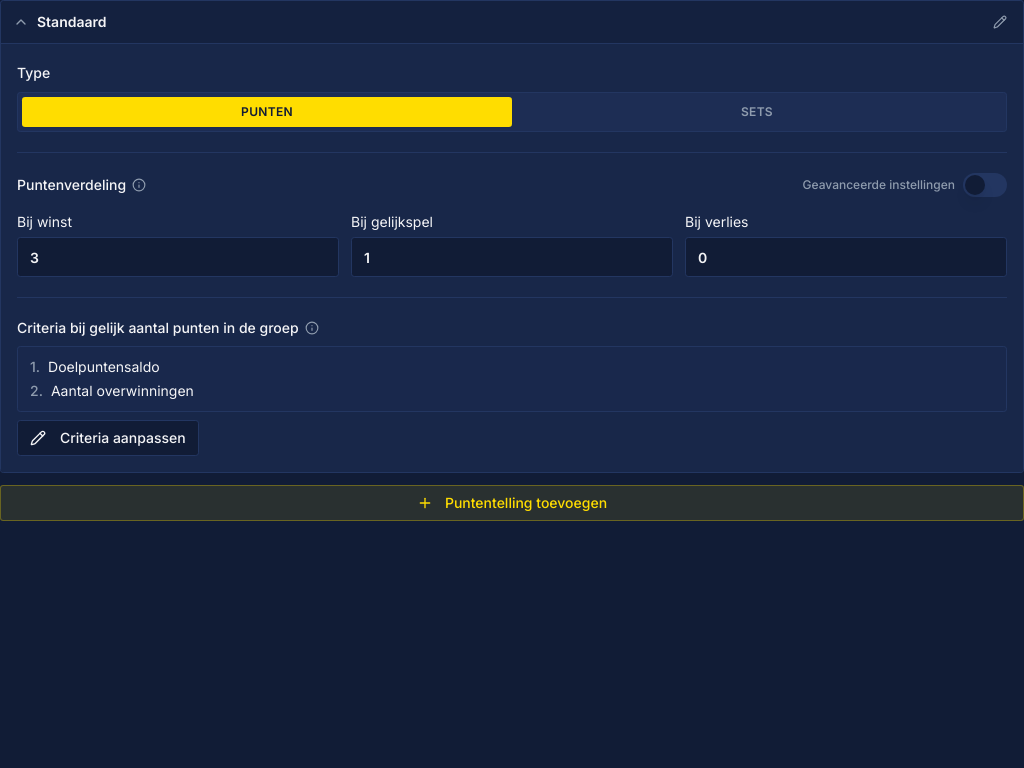
Scenario: Puntenverdeling › staat de schakelaar 'geen gelijkspel' direct bij de gelijkspelvelden en schakelt die uit
This screenshot has width=1024, height=768.
Click the switch named "Geavanceerde instellingen".
click(985, 185)  # box [963,173,1007,197]
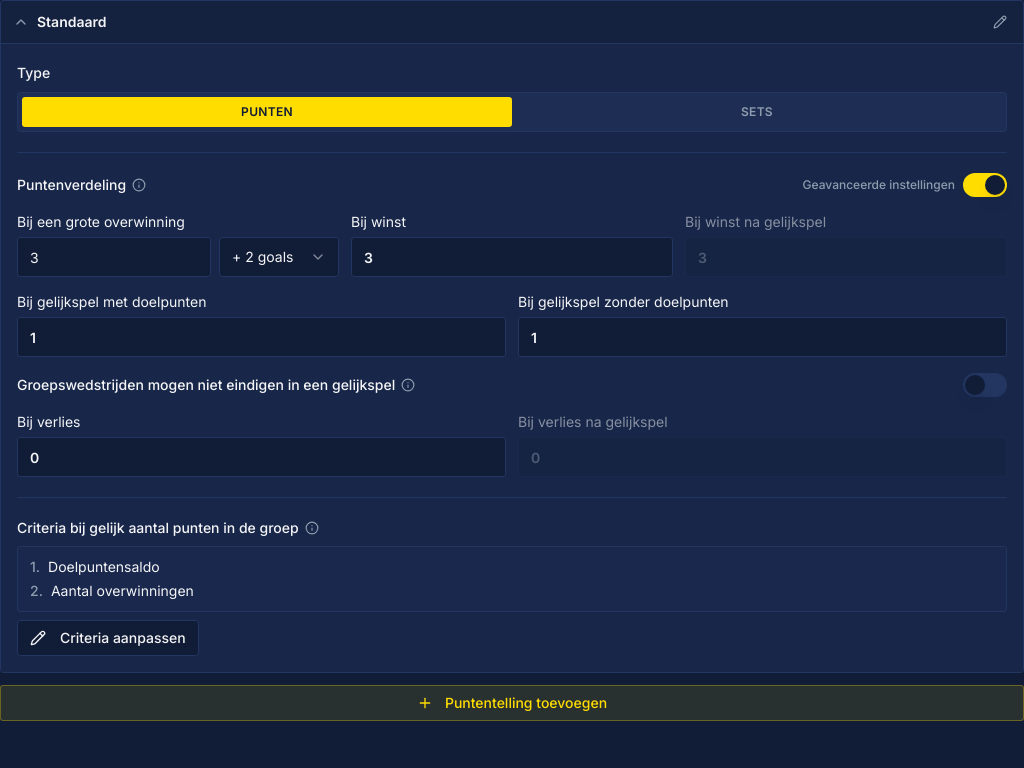
Click the 2nd switch.
click(985, 385)  # box [963,373,1007,397]
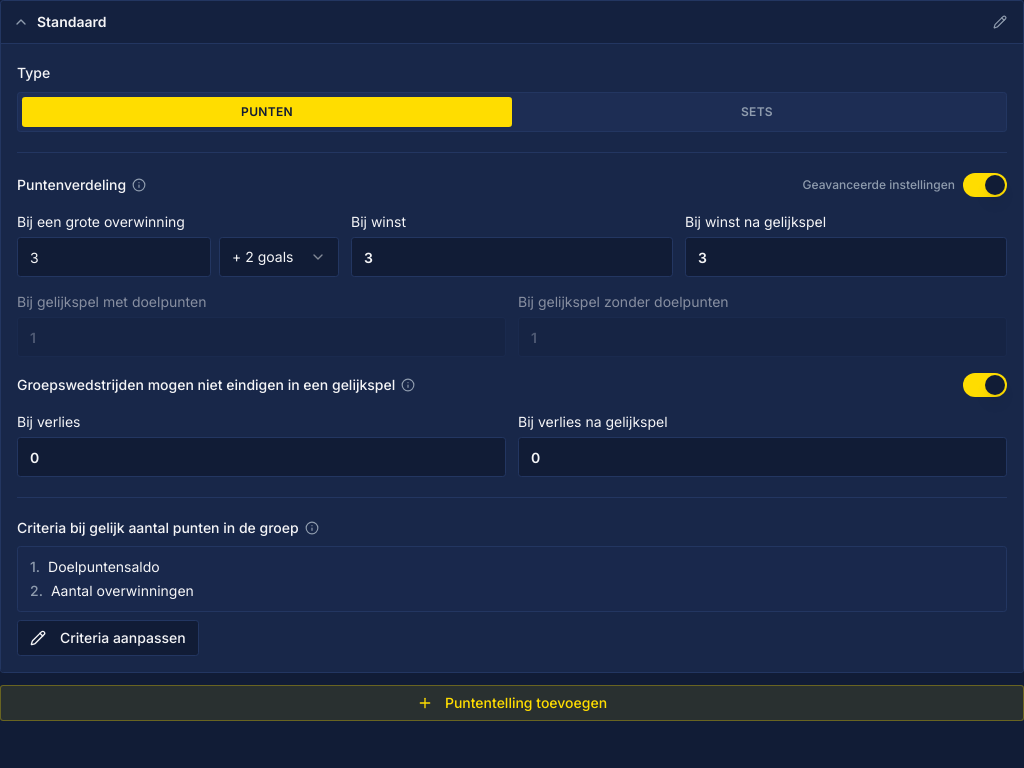
Expected: the number field labelled "Bij gelijkspel met doelpunten" is disabled, [17,317,506,357]
Result: the number field labelled "Bij winst na gelijkspel" is enabled at [685,237,1007,277]
Result: the number field labelled "Bij verlies na gelijkspel" is enabled at [518,437,1007,477]
